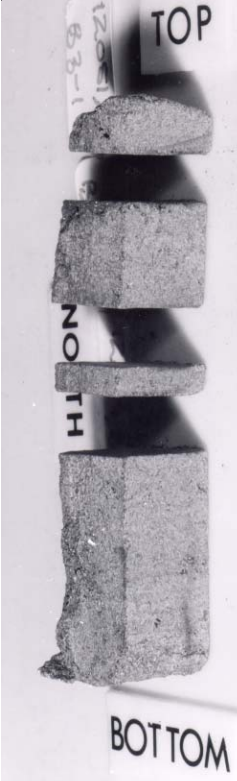Basalt: (54, 80, 211, 668)
